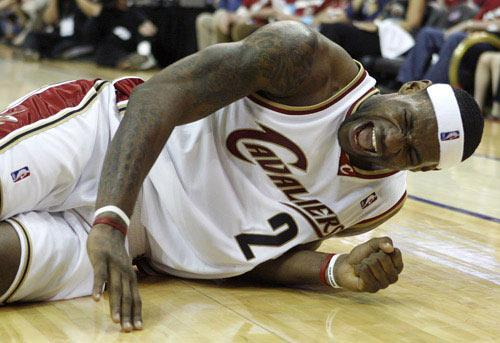10+: (1, 1, 500, 335)
down: (2, 18, 488, 337)
